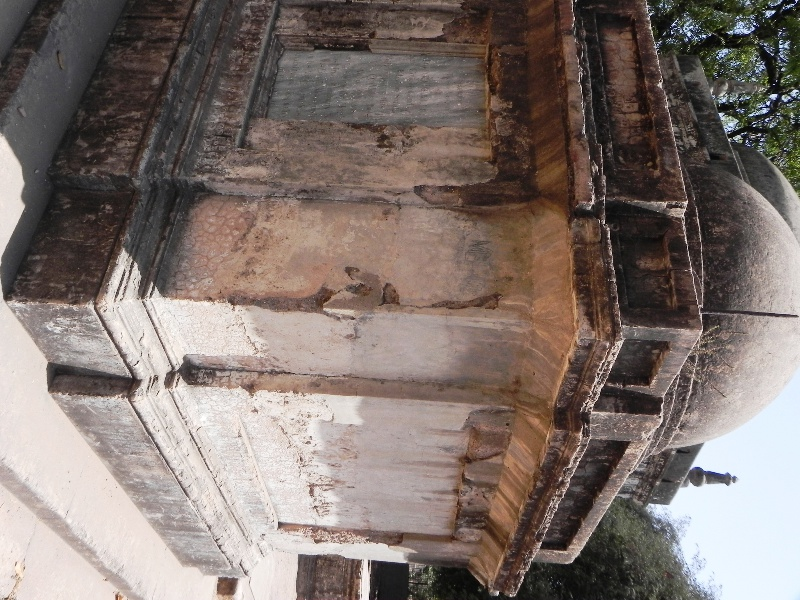Spalling: (241, 277, 517, 318), (294, 525, 409, 547)
